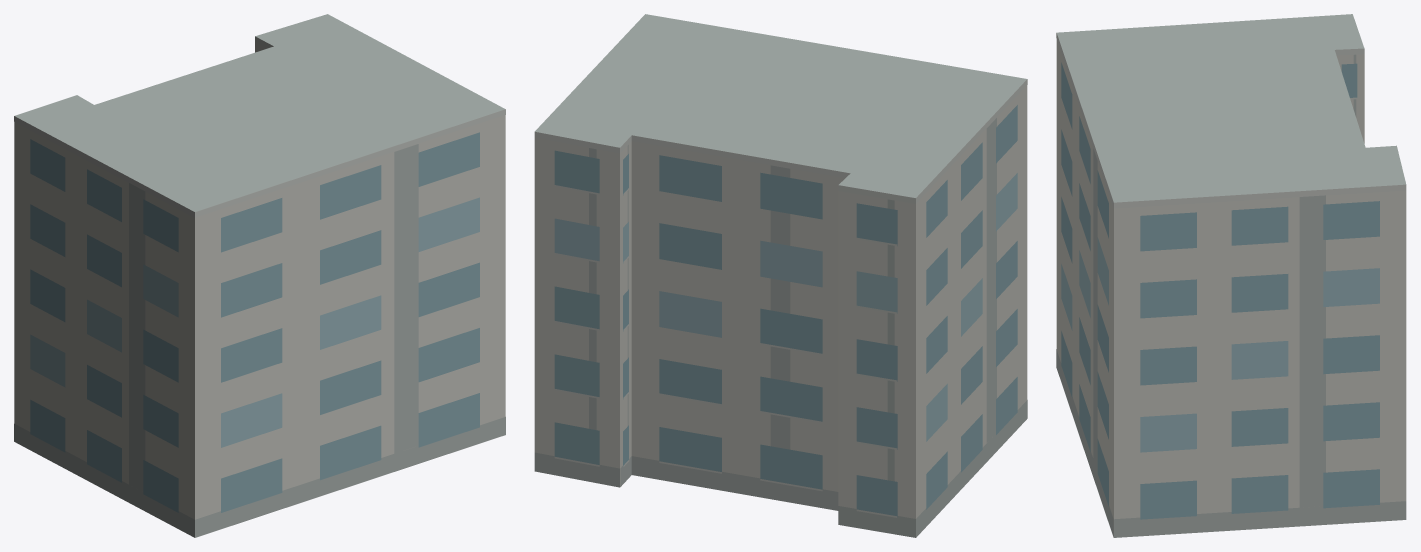
Rendered from survey-upis-32576961.glb.
The picture shows the model from 3 angles, left to right: view 1: azimuth 30°, elevation 25°; view 2: azimuth 150°, elevation 25°; view 3: azimuth 270°, elevation 25°; orthographic projection. The views are drawn at different scales.
Visible parts, largest first — view 1: survey-upis-32576961.tmp; view 2: survey-upis-32576961.tmp; view 3: survey-upis-32576961.tmp.
Boxes of the visible parts, <box> form: survey-upis-32576961.tmp: <box>14,14,505,537</box>; survey-upis-32576961.tmp: <box>534,14,1027,537</box>; survey-upis-32576961.tmp: <box>1056,14,1406,537</box>.
Bounding box in the file's own units: 16.84 × 13.95 × 13.2.
